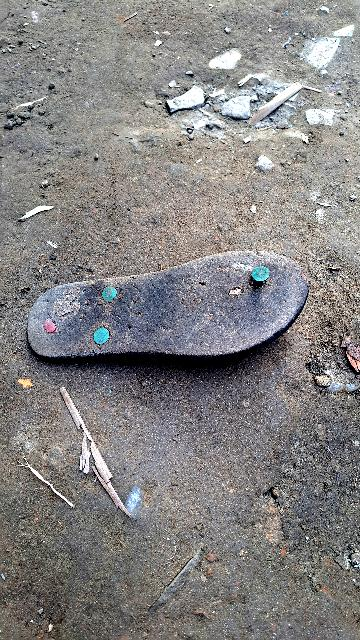sandal: (16, 235, 309, 358)
